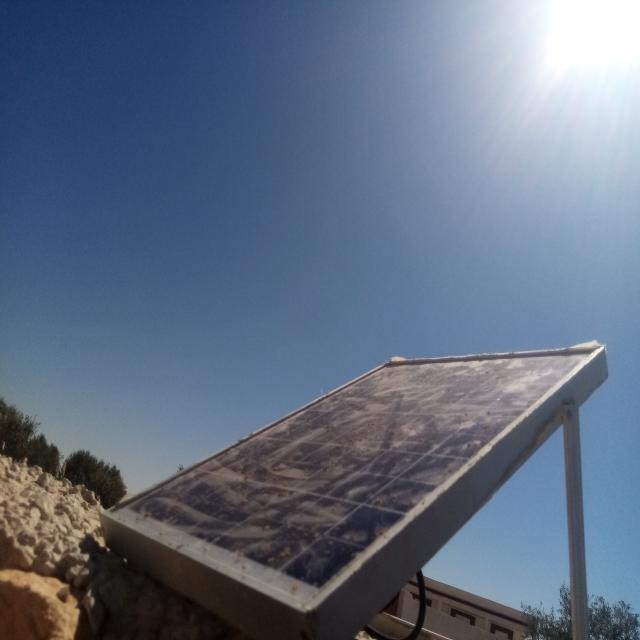faulty: (106, 349, 600, 609)
